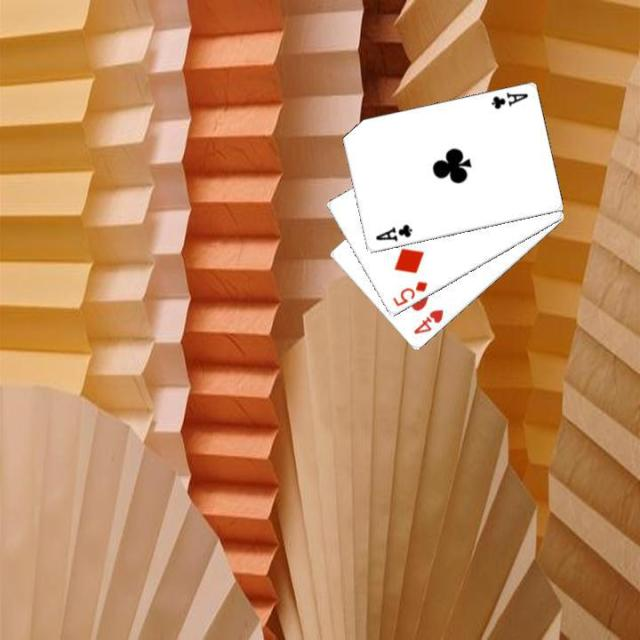4H: (409, 306, 445, 337)
5D: (388, 278, 429, 308)
AC: (372, 220, 414, 243), (487, 89, 530, 111)
